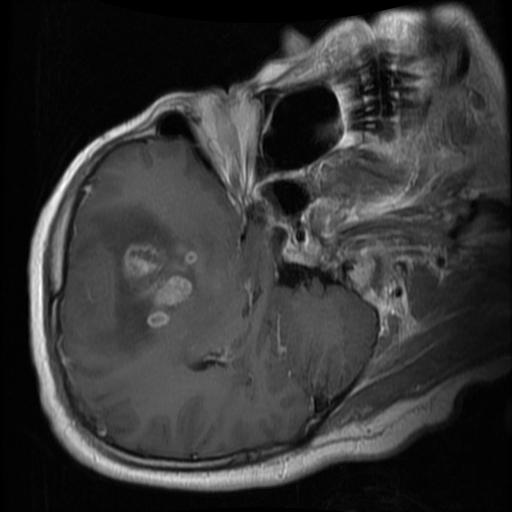glioma: (94, 206, 196, 342)
